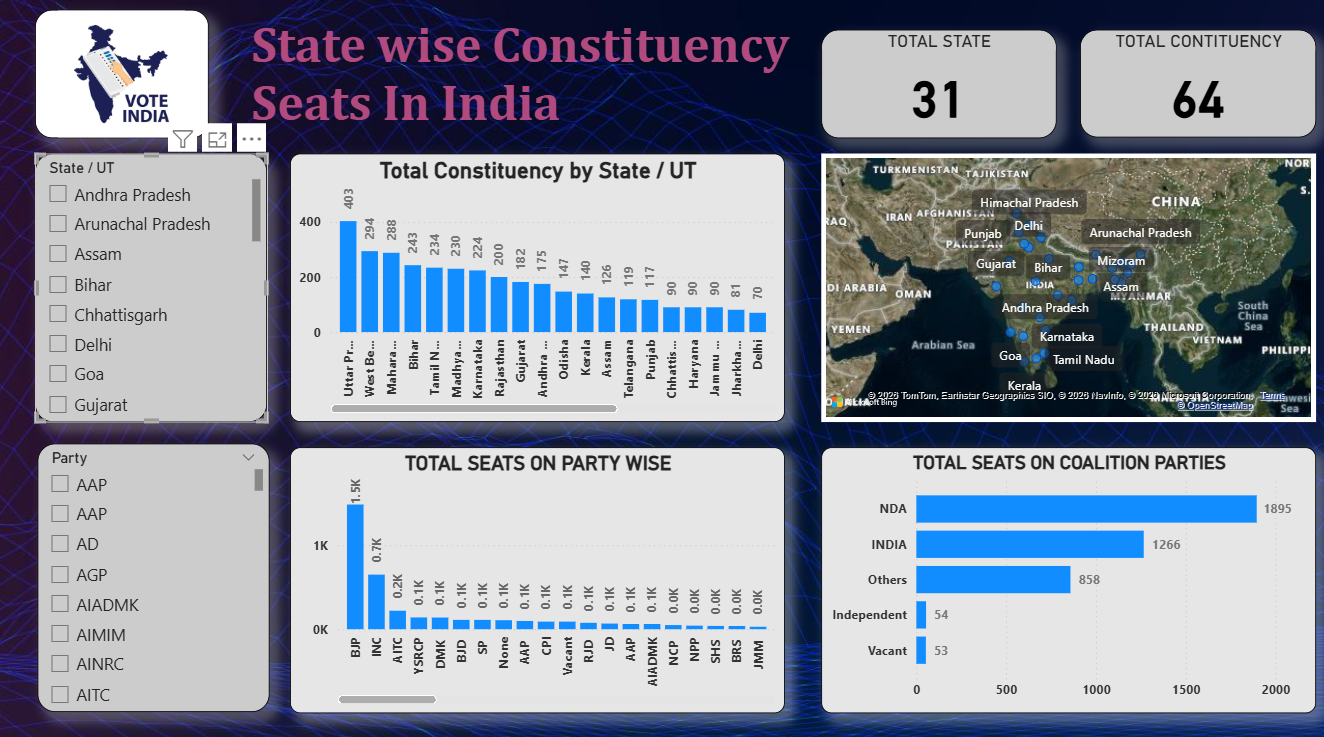

What the dashboard file says about the page in this screenshot:
{"tool":"powerbi","page":{"name":"Page 1","canvas":[1280,720],"ordinal":0},"visuals":[{"type":"card","title":"TOTAL STATE","fields":{"Values":["Count(Data.State / UT)"]},"box":[792.6,32.6,226.8,105],"z":0},{"type":"card","title":"TOTAL CONTITUENCY","fields":{"Values":["Count(Data.Total Constituency)"]},"box":[1042.4,32.6,228,103.8],"z":1000},{"type":"columnChart","title":"Total Constituency by State / UT","fields":{"Category":["Data.State / UT"],"Y":["Sum(Data.Total Constituency)"]},"box":[279.9,152.3,477.5,259.3],"z":2000},{"type":"map","fields":{"Category":["Data.State / UT"]},"box":[793.1,152.3,477.5,259.3],"z":3000},{"type":"columnChart","title":"TOTAL SEATS ON PARTY WISE","fields":{"Y":["Sum(Data.Total Constituency)"],"Category":["Data.Party"]},"box":[279.9,435,477.5,256.6],"z":4000},{"type":"clusteredBarChart","title":"TOTAL SEATS ON COALITION PARTIES","fields":{"Category":["Data.NDA / INDI"],"Y":["Sum(Data.Total Constituency)"]},"box":[793.1,435,477.5,256.6],"z":5000},{"type":"slicer","fields":{"Values":["Data.State / UT"]},"box":[34.3,152.3,223.7,259.3],"z":6000},{"type":"slicer","fields":{"Values":["Data.Party"]},"box":[35.7,432.2,223.7,259.3],"z":7000},{"type":"textbox","box":[237.4,13.7,544.8,138.6],"z":8000},{"type":"image","box":[33.8,13.3,167.7,124.3],"z":9000}]}

Visuals, with their boxes in screenshot pixels (x1, y1, x2, y2), scaled from the page's 1280x720 canvas onto the 1324x737 screenshot:
"TOTAL STATE" card: region(820, 33, 1054, 141)
"TOTAL CONTITUENCY" card: region(1078, 33, 1314, 140)
"Total Constituency by State / UT" columnChart: region(290, 156, 783, 421)
map - Data.State / UT: region(820, 156, 1314, 421)
"TOTAL SEATS ON PARTY WISE" columnChart: region(290, 445, 783, 708)
"TOTAL SEATS ON COALITION PARTIES" clusteredBarChart: region(820, 445, 1314, 708)
slicer - Data.State / UT: region(35, 156, 267, 421)
slicer - Data.Party: region(37, 442, 268, 708)
textbox: region(246, 14, 809, 156)
image: region(35, 14, 208, 141)
